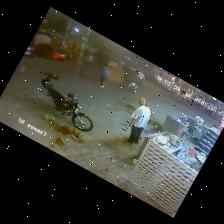person: (126, 97, 150, 143), (97, 67, 107, 87), (127, 82, 136, 93), (136, 71, 143, 85), (87, 54, 93, 64), (180, 94, 185, 101)
